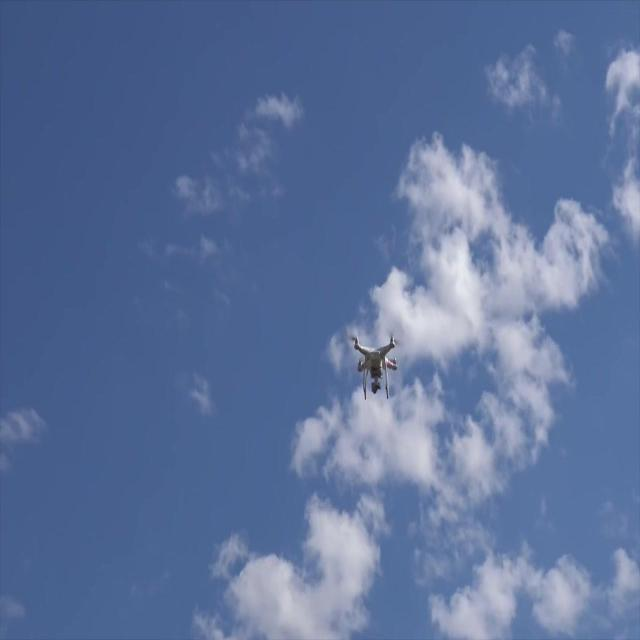drone: (350, 332, 400, 402)
